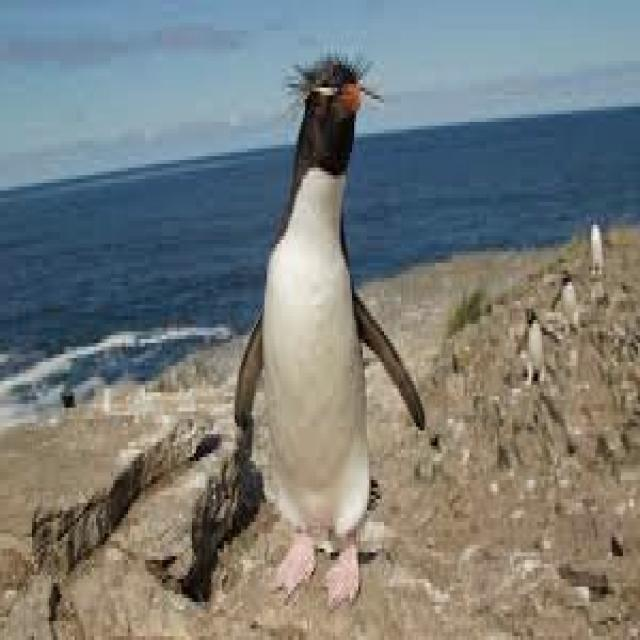penguin: (237, 57, 425, 602)
